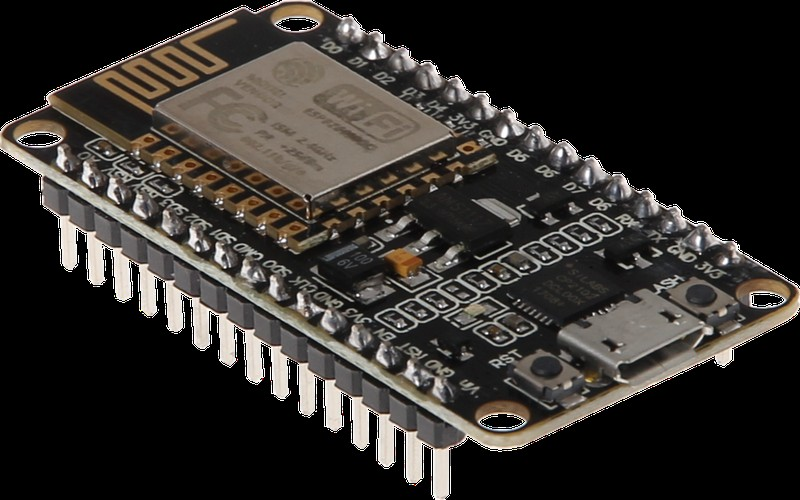IoT Sensor: (0, 0, 800, 500)
